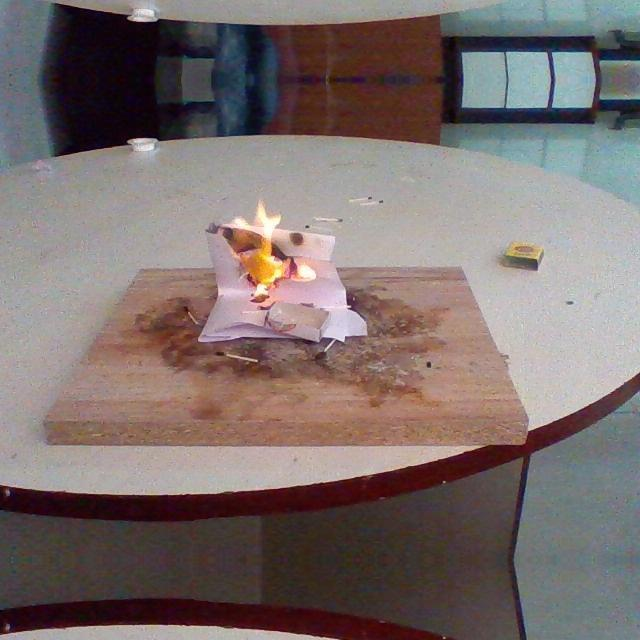smoke: (225, 202, 289, 286)
